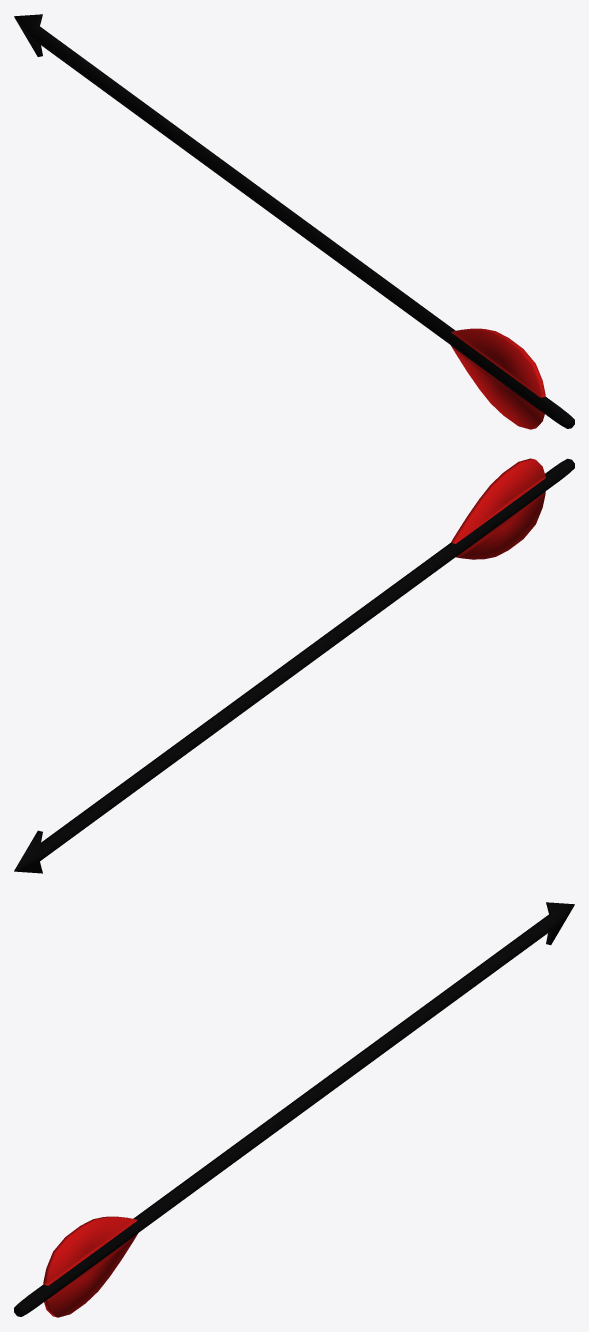
File: arrow.obj
3 renders of one model, top to bottom at view 1: azimuth 30°, elevation 25°; view 2: azimuth 150°, elevation 25°; view 3: azimuth 330°, elevation 25°, orthographic.
Visible parts, largest first — view 1: cylinder1_blk, cylinder1_fletches; view 2: cylinder1_blk, cylinder1_fletches; view 3: cylinder1_blk, cylinder1_fletches.
Boxes of the visible parts, x1,y1,x2,y2 form: cylinder1_blk: [14, 14, 574, 428]; cylinder1_fletches: [451, 328, 545, 429]; cylinder1_blk: [14, 458, 574, 873]; cylinder1_fletches: [451, 458, 545, 559]; cylinder1_blk: [14, 902, 574, 1316]; cylinder1_fletches: [43, 1216, 137, 1317].
Size of the model in its own units: 0.0212 by 0.1247 by 1.64.
